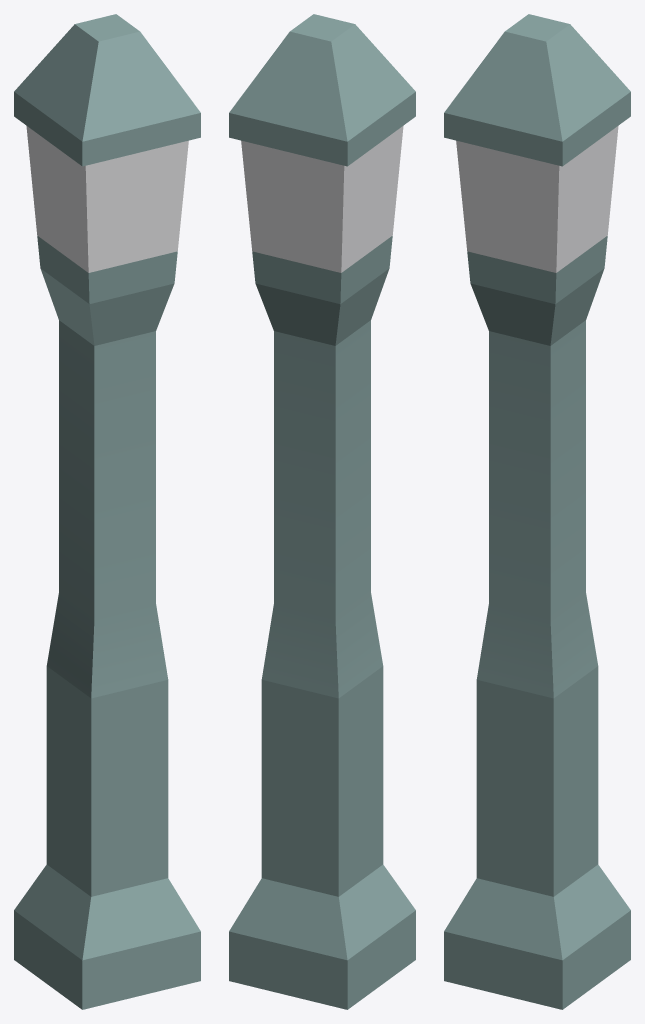
File: london_street_lamp.glb
The picture shows the model from 3 angles, left to right: view 1: azimuth 30°, elevation 25°; view 2: azimuth 150°, elevation 25°; view 3: azimuth 330°, elevation 25°; orthographic projection.
Parts seen in each view (by area): view 1: Lightpost_01; view 2: Lightpost_01; view 3: Lightpost_01.
Boxes of the visible parts, x1,y1,x2,y2 form: Lightpost_01: (14,14,200,1009); Lightpost_01: (229,14,415,1009); Lightpost_01: (444,14,630,1009).
Size of the model in its own units: 0.5 by 3.8 by 0.5.
